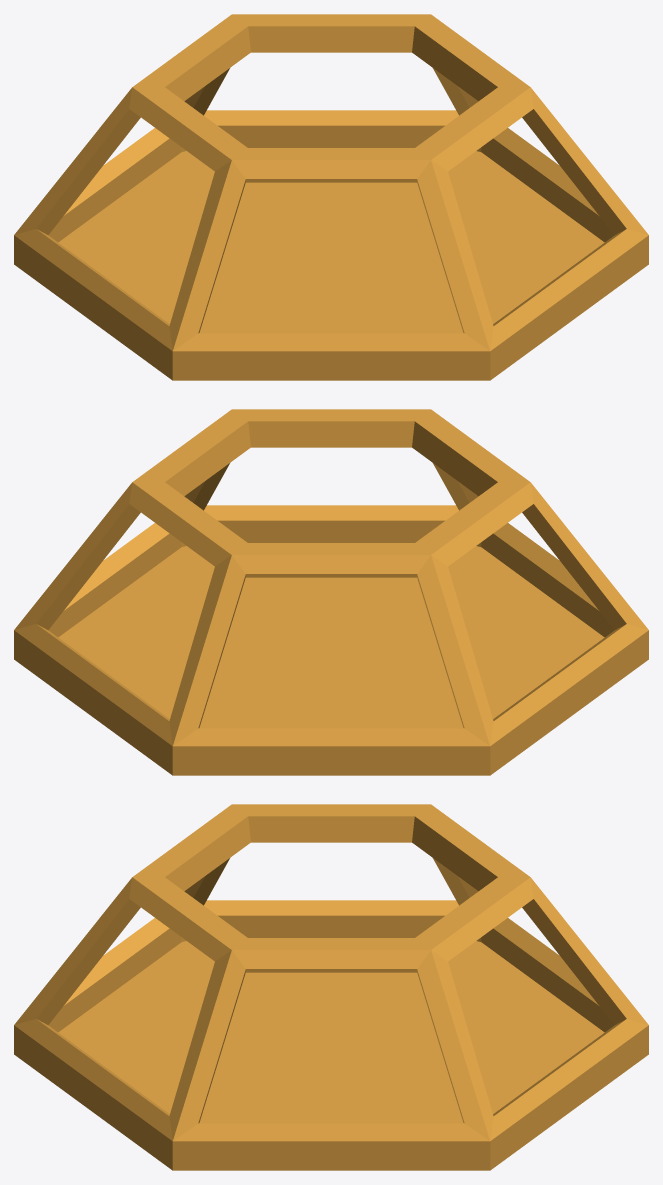
The model's file is SM_Bottle_Alchemy_Stand_B.fbx.
The picture shows the model from 3 angles, top to bottom: view 1: azimuth 30°, elevation 25°; view 2: azimuth 150°, elevation 25°; view 3: azimuth 270°, elevation 25°; orthographic projection.
Parts seen in each view (by area): view 1: bottle-alchemy-stand-b; view 2: bottle-alchemy-stand-b; view 3: bottle-alchemy-stand-b.
Part boxes in pixels (x1,y1,x2,y2): bottle-alchemy-stand-b: (14,14,648,380); bottle-alchemy-stand-b: (14,409,648,775); bottle-alchemy-stand-b: (14,804,648,1170).
Bounding box in the file's own units: 0.2809 × 0.0999 × 0.3244.
